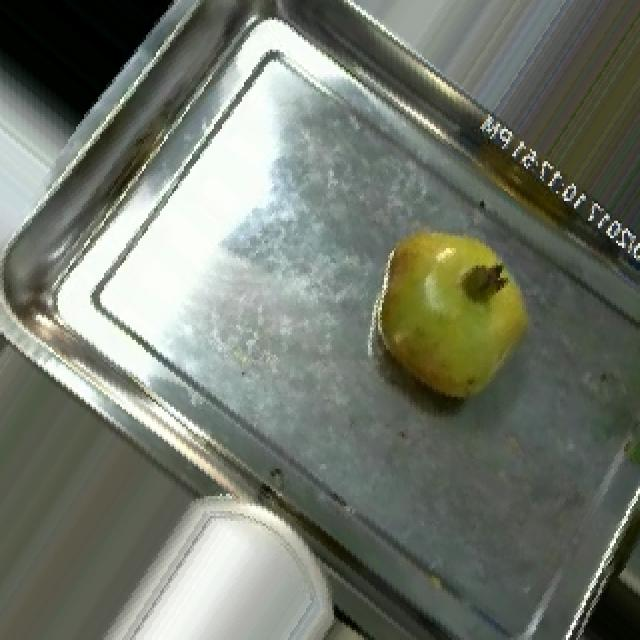fruit: (342, 198, 560, 426)
